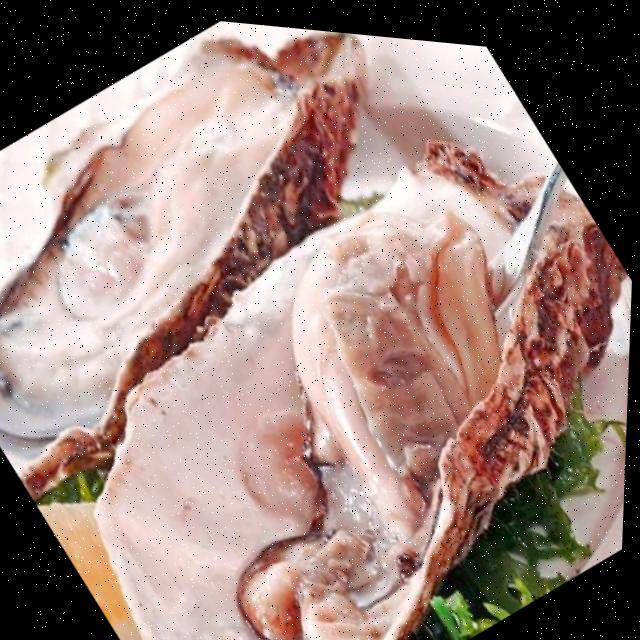Oyster-Open: (78, 102, 632, 640), (0, 22, 400, 511)
